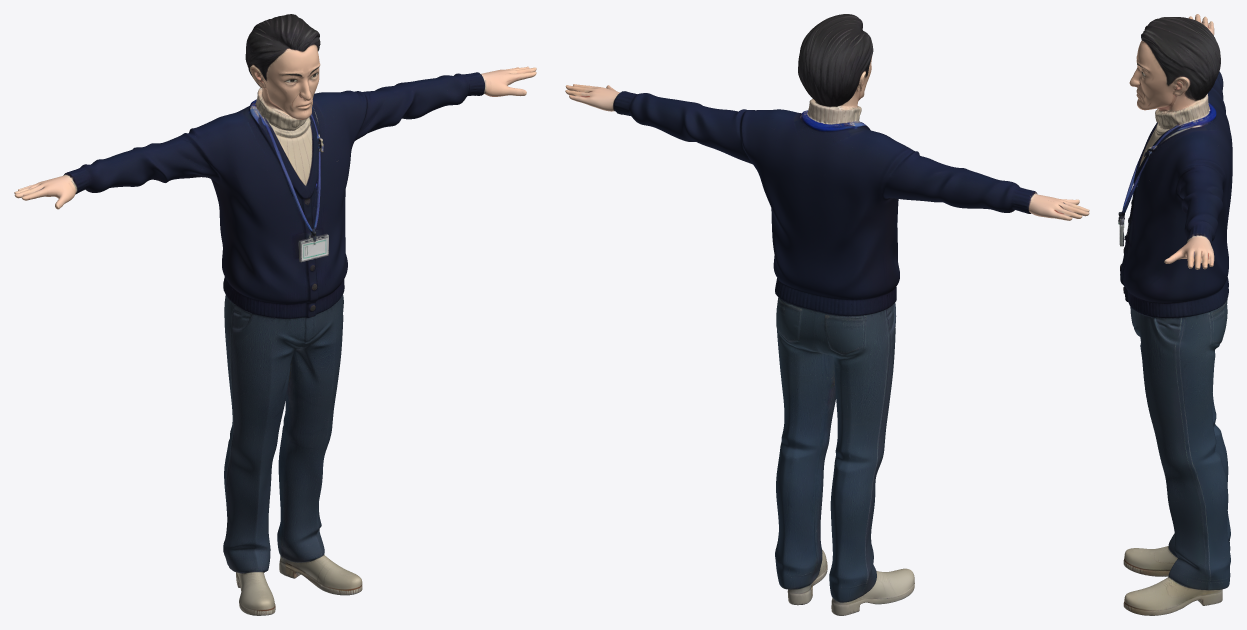
The picture shows the model from 3 angles, left to right: view 1: azimuth 30°, elevation 25°; view 2: azimuth 150°, elevation 25°; view 3: azimuth 270°, elevation 25°; orthographic projection.
Size of the model in its own units: 1.81 by 1.9 by 0.3454.
1 material, 1 textured.
